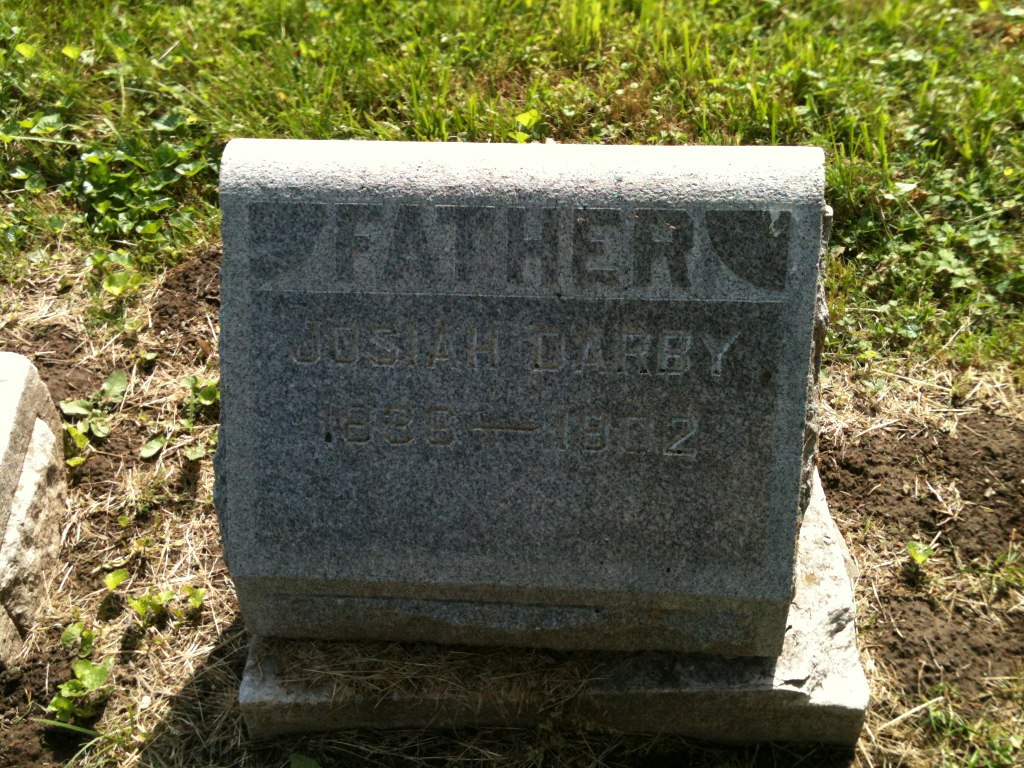slant: (185, 134, 884, 768)
